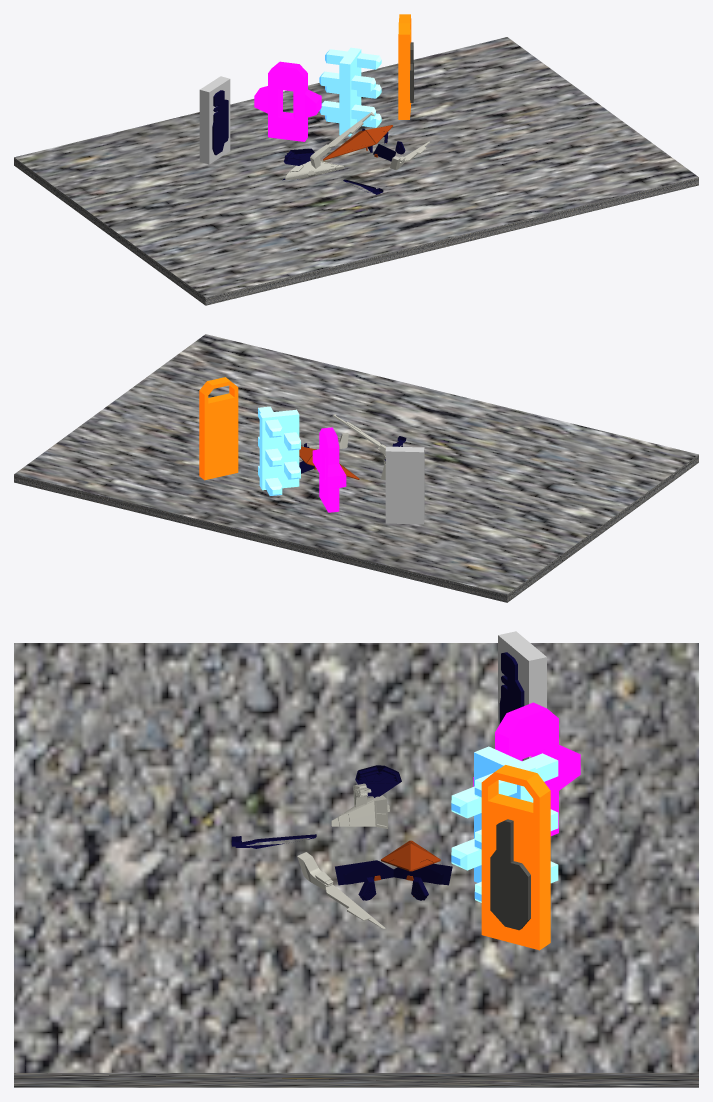
Rendered from env.gltf.
3 renders of one model, top to bottom at view 1: azimuth 30°, elevation 25°; view 2: azimuth 150°, elevation 25°; view 3: azimuth 270°, elevation 25°, orthographic. The views are drawn at different scales.
Parts seen in each view (by area): view 1: Cube.006, Cube.003, Cube.001, Cube, Cube.004, Cube.002, Plane.003, Cube.070, Cube.068; view 2: Cube.006, Cube.004, Cube.003, Cube, Cube.001; view 3: Cube.006, Cube.004, Cube.003, Cube.001, Cube.005, Cube, Cube.063, Cube.042, Cube.070, Cube.002, Plane.003, Cube.037.
Part boxes in pixels (x1,y1,x2,y2): Cube.006: (14, 37, 698, 305); Cube.003: (319, 47, 381, 136); Cube.001: (254, 61, 321, 141); Cube: (199, 76, 230, 164); Cube.004: (398, 14, 411, 119); Cube.002: (212, 90, 228, 155); Plane.003: (323, 125, 392, 160); Cube.070: (282, 161, 344, 180); Cube.068: (310, 112, 374, 168); Cube.006: (14, 334, 698, 602); Cube.004: (199, 377, 238, 480); Cube.003: (258, 406, 300, 495); Cube: (385, 446, 424, 524); Cube.001: (312, 427, 346, 512); Cube.006: (14, 643, 698, 1087); Cube.004: (481, 765, 550, 950); Cube.003: (451, 746, 558, 902); Cube.001: (473, 702, 580, 835); Cube.005: (490, 819, 530, 930); Cube: (498, 631, 546, 760); Cube.063: (335, 860, 452, 885); Cube.042: (297, 852, 385, 928); Cube.070: (331, 795, 389, 828); Cube.002: (499, 652, 524, 760); Plane.003: (381, 840, 440, 871); Cube.037: (355, 765, 401, 797).
Size of the model in its own units: 29.75 by 5.84 by 20.02.
9 materials, 1 textured.
